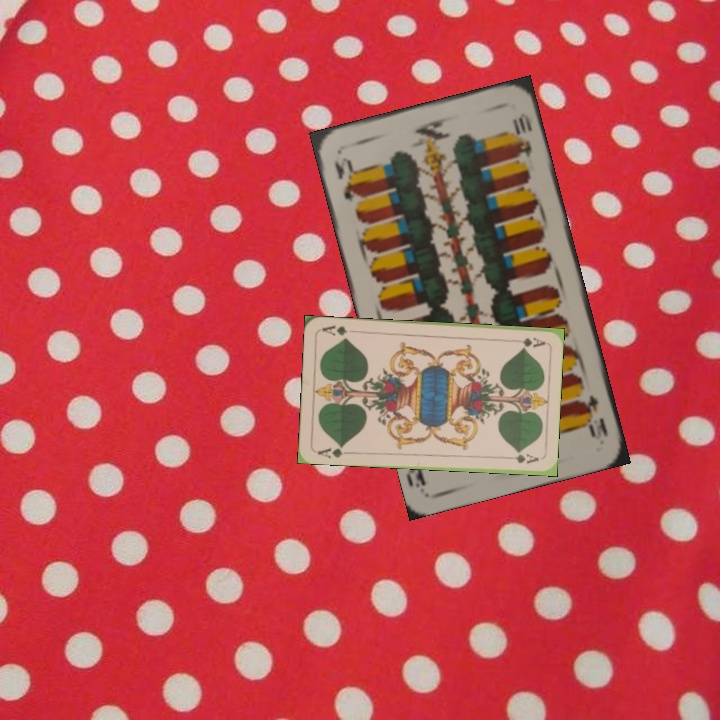E10: (578, 391, 611, 440), (330, 153, 360, 205)
GA: (314, 441, 353, 460), (507, 333, 547, 350)
